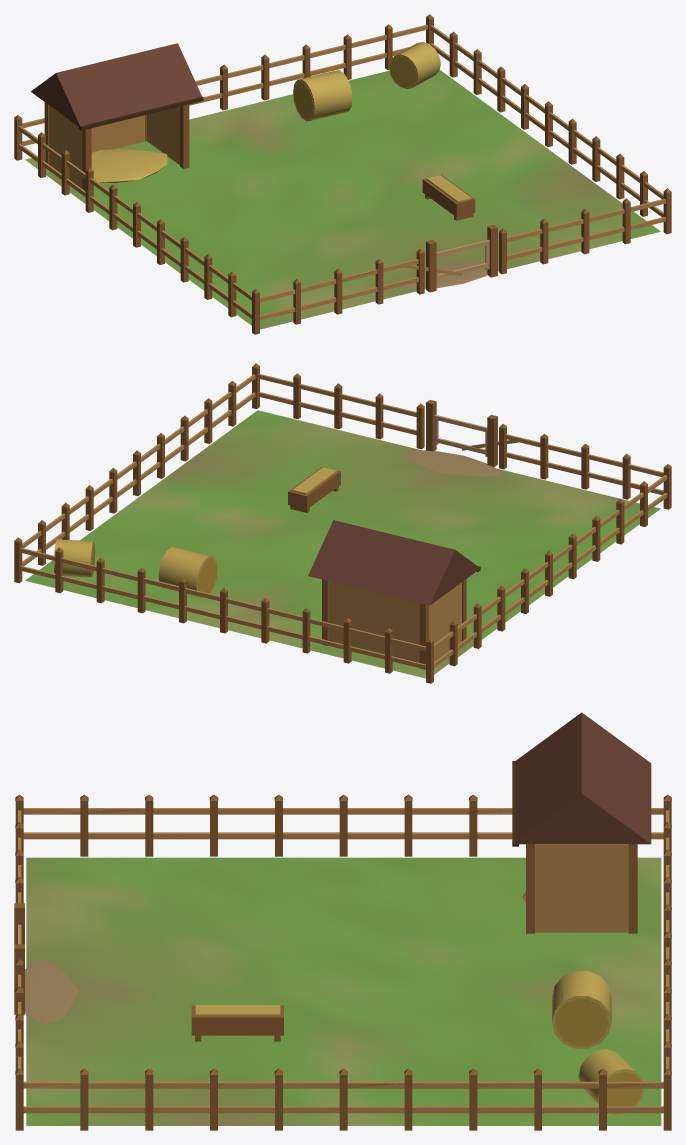
The model's file is pasture-g1.glb.
3 renders of one model, top to bottom at view 1: azimuth 30°, elevation 25°; view 2: azimuth 150°, elevation 25°; view 3: azimuth 270°, elevation 25°, orthographic. The views are drawn at different scales.
Visible parts, largest first — view 1: home-pasture-g1, home-pasture-g1-far; view 2: home-pasture-g1, home-pasture-g1-far; view 3: home-pasture-g1, home-pasture-g1-far.
Boxes of the visible parts, x1=… form: home-pasture-g1: x1=14, y1=17, x2=671, y2=334; home-pasture-g1-far: x1=14, y1=14, x2=671, y2=334; home-pasture-g1: x1=14, y1=363, x2=671, y2=683; home-pasture-g1-far: x1=14, y1=363, x2=671, y2=682; home-pasture-g1: x1=14, y1=712, x2=671, y2=1130; home-pasture-g1-far: x1=14, y1=749, x2=671, y2=1130.
Bounding box in the file's own units: 9.93 × 2.45 × 9.95.
